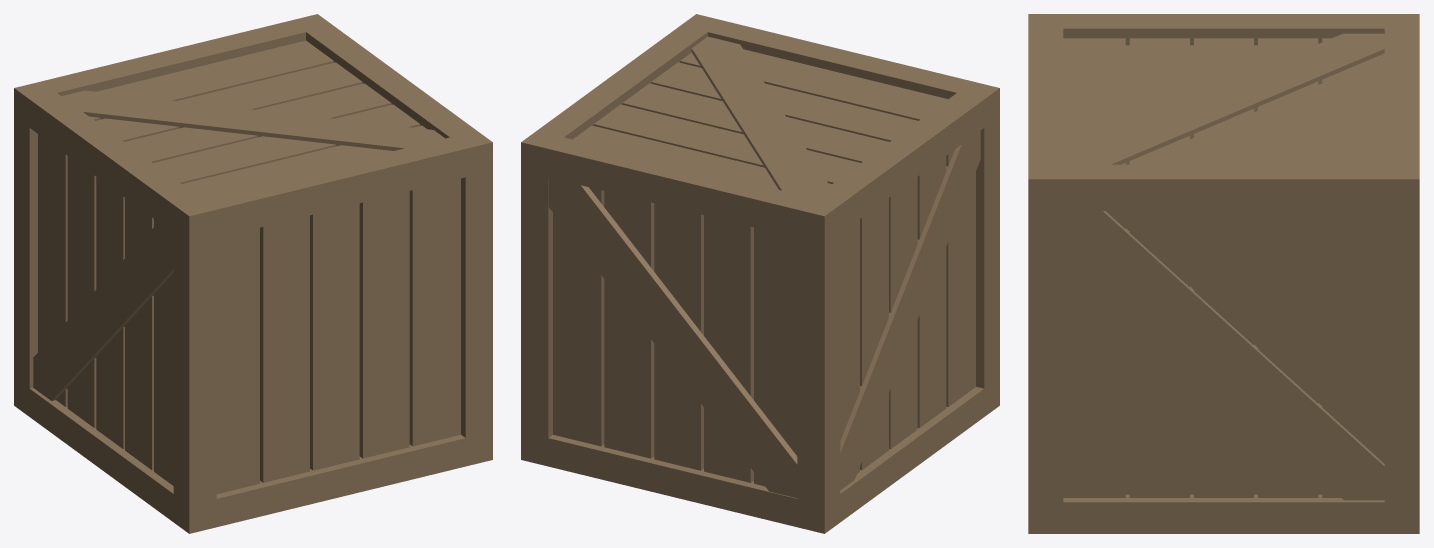
3 views of the same model, side by side, from view 1: azimuth 30°, elevation 25°; view 2: azimuth 150°, elevation 25°; view 3: azimuth 270°, elevation 25° (orthographic). The views are drawn at different scales.
Visible parts, largest first — view 1: Wooden_Box; view 2: Wooden_Box; view 3: Wooden_Box.
Boxes of the visible parts, x1,y1,x2,y2 form: Wooden_Box: (14, 14, 492, 533); Wooden_Box: (521, 14, 999, 533); Wooden_Box: (1028, 14, 1419, 533).
Bounding box in the file's own units: 50 × 50 × 50.
